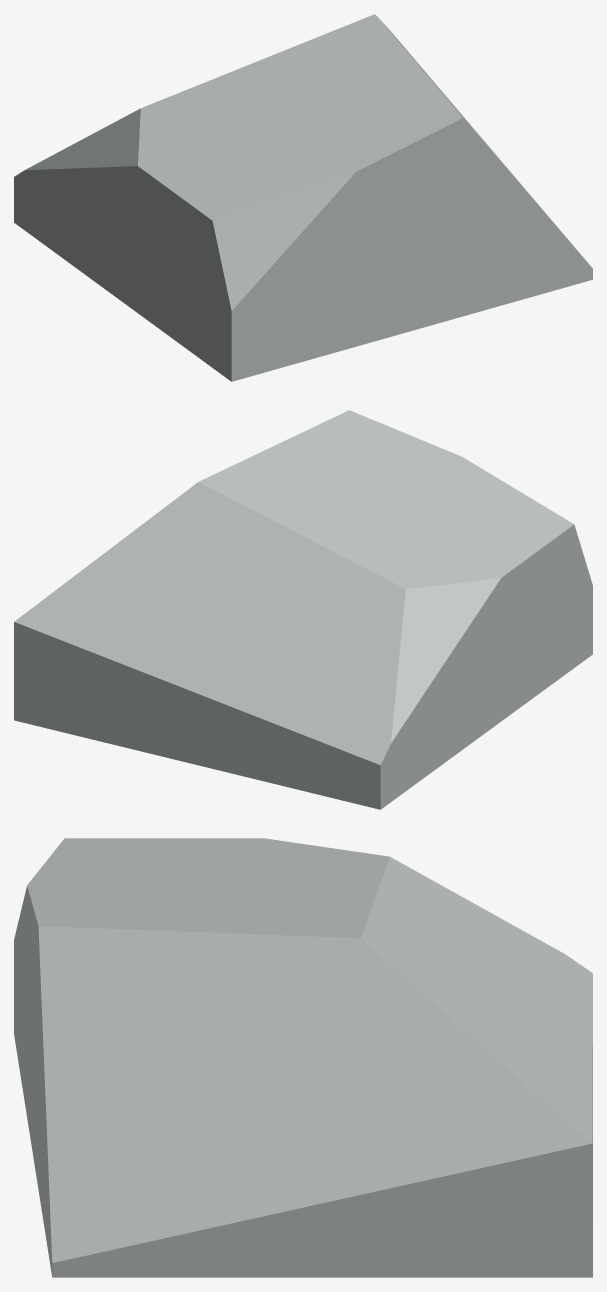
File: Rock_Square_s_07.fbx
The picture shows the model from 3 angles, top to bottom: view 1: azimuth 30°, elevation 25°; view 2: azimuth 150°, elevation 25°; view 3: azimuth 270°, elevation 25°; orthographic projection. The views are drawn at different scales.
Visible parts, largest first — view 1: Rock_Square_s_07; view 2: Rock_Square_s_07; view 3: Rock_Square_s_07.
Boxes of the visible parts, bbox=[...] form: Rock_Square_s_07: bbox=[14, 14, 592, 381]; Rock_Square_s_07: bbox=[14, 410, 592, 809]; Rock_Square_s_07: bbox=[14, 838, 592, 1277].
Size of the model in its own units: 48.27 by 25.24 by 48.43.
